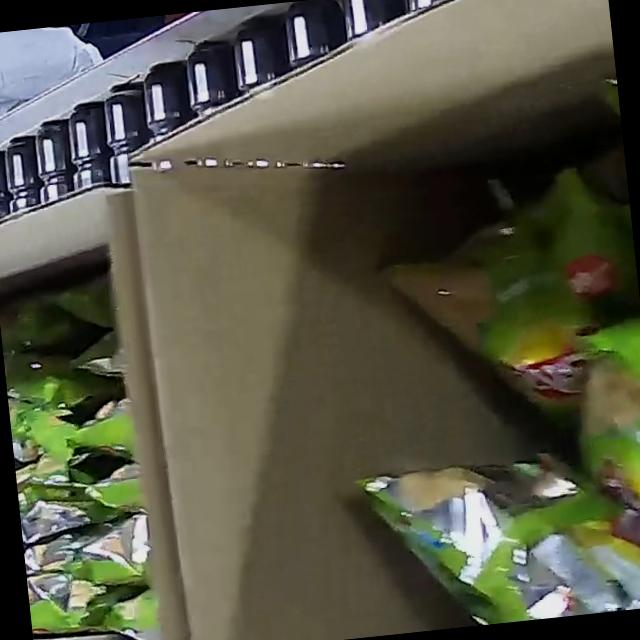yogurt: (313, 68, 640, 636), (0, 263, 168, 640)
